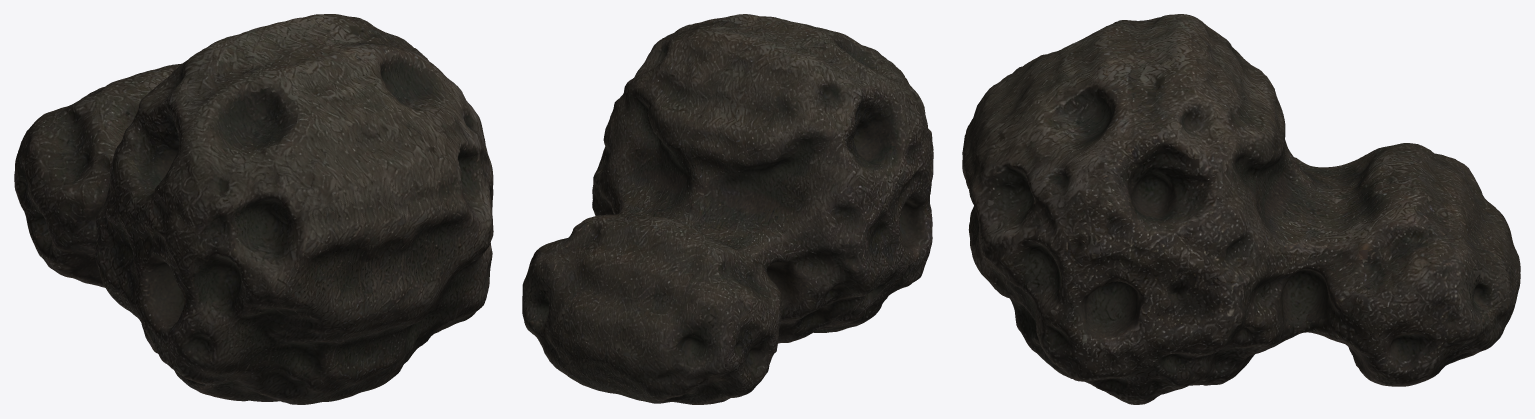
The model's file is asteroid_rare_1.glb.
3 views of the same model, side by side, from view 1: azimuth 30°, elevation 25°; view 2: azimuth 150°, elevation 25°; view 3: azimuth 270°, elevation 25° (orthographic). The views are drawn at different scales.
Parts seen in each view (by area): view 1: model; view 2: model; view 3: model.
Part boxes in pixels (x1=…): model: x1=14, y1=14, x2=493, y2=404; model: x1=522, y1=14, x2=933, y2=404; model: x1=962, y1=14, x2=1520, y2=404.
Bounding box in the file's own units: 1.22 × 1.27 × 1.89.
1 material, 1 textured.
